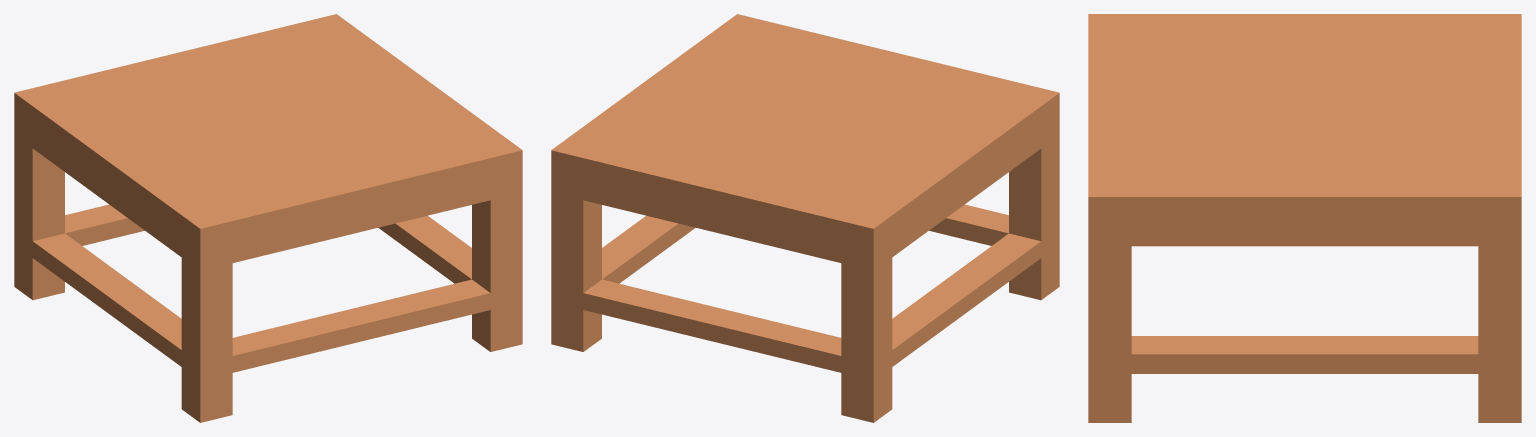
Rendered from tableCoffeeSquare.obj.
3 renders of one model, left to right at view 1: azimuth 30°, elevation 25°; view 2: azimuth 150°, elevation 25°; view 3: azimuth 270°, elevation 25°, orthographic. The views are drawn at different scales.
Visible parts, largest first — view 1: tableCoffeeSquare; view 2: tableCoffeeSquare; view 3: tableCoffeeSquare.
Part boxes in pixels (x1,y1,x2,y2): tableCoffeeSquare: (14,14,522,422); tableCoffeeSquare: (551,14,1059,422); tableCoffeeSquare: (1088,14,1521,422).
Bounding box in the file's own units: 0.4 × 0.23 × 0.4.
